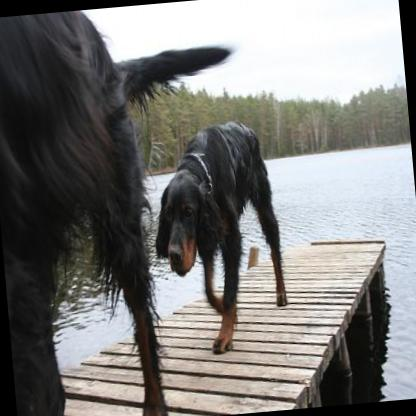Gordon_setter: (0, 0, 265, 416), (142, 113, 297, 357)
